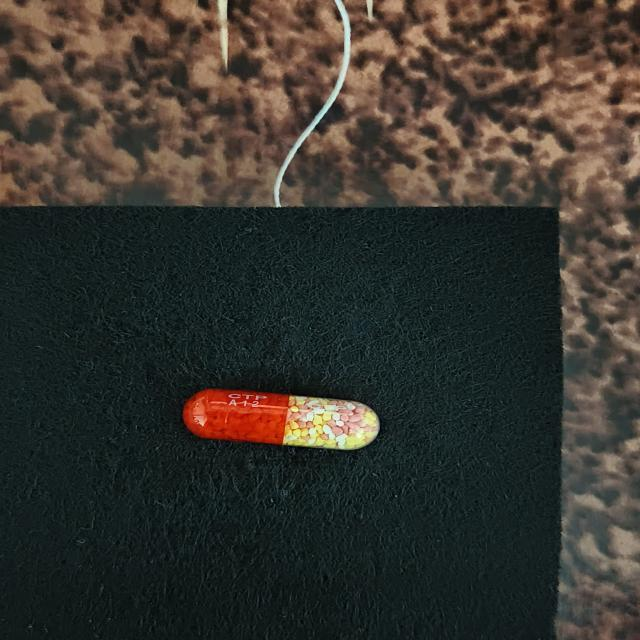Intact Capsule: (183, 389, 380, 450)
